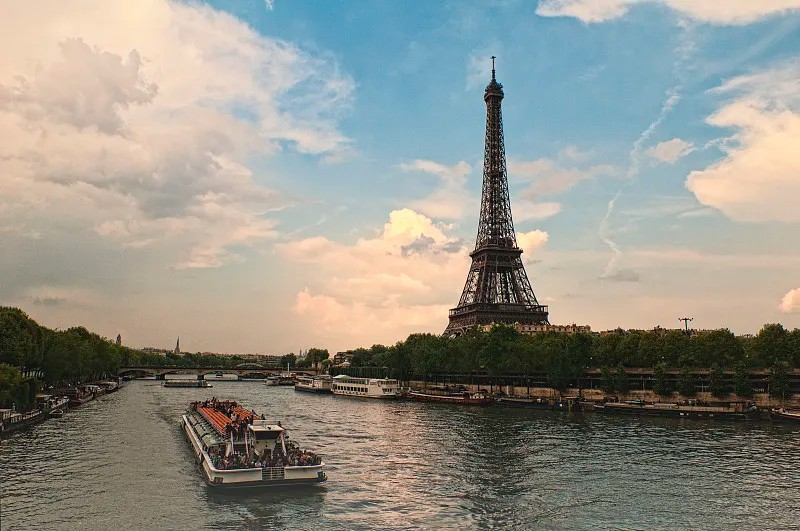Eiffel: (439, 57, 550, 338)
